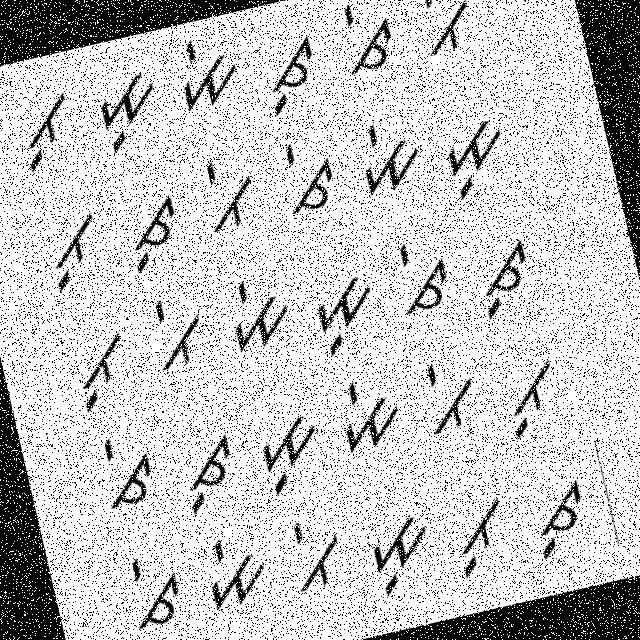be: (139, 286, 217, 381), (411, 349, 484, 444), (281, 504, 354, 597), (190, 153, 266, 241), (404, 0, 491, 63)
bu: (488, 338, 578, 444), (32, 198, 118, 302), (0, 84, 91, 182), (57, 320, 142, 415), (440, 485, 518, 581)
ce: (383, 232, 460, 324), (276, 132, 350, 222), (88, 428, 162, 516), (120, 542, 190, 633), (330, 0, 408, 81)
cu: (111, 180, 192, 278), (169, 419, 248, 516), (252, 26, 333, 120), (466, 232, 544, 321), (522, 474, 598, 562)
me: (324, 362, 411, 458), (218, 264, 301, 360), (194, 524, 276, 620), (344, 111, 429, 202), (170, 27, 250, 113)
mu: (299, 259, 386, 362), (431, 106, 520, 202), (356, 498, 439, 600), (248, 398, 331, 497), (85, 64, 166, 154)
